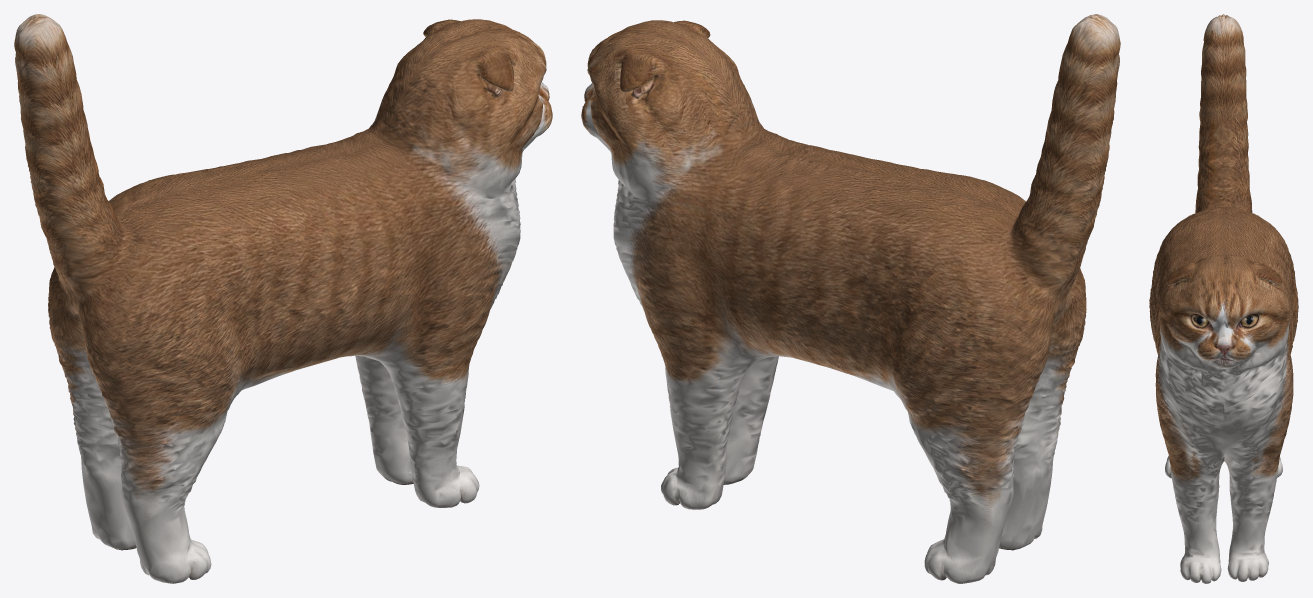
The model's file is MARUOCAT.glb.
3 views of the same model, side by side, from view 1: azimuth 30°, elevation 25°; view 2: azimuth 150°, elevation 25°; view 3: azimuth 270°, elevation 25° (orthographic). The views are drawn at different scales.
Visible parts, largest first — view 1: tripo_node_0c8d1d12-3f7e-4f68-8ae3-7cf2b4ba248e; view 2: tripo_node_0c8d1d12-3f7e-4f68-8ae3-7cf2b4ba248e; view 3: tripo_node_0c8d1d12-3f7e-4f68-8ae3-7cf2b4ba248e.
Part boxes in pixels (box(x1,y1,x2,y2)): tripo_node_0c8d1d12-3f7e-4f68-8ae3-7cf2b4ba248e: box(14, 14, 552, 583); tripo_node_0c8d1d12-3f7e-4f68-8ae3-7cf2b4ba248e: box(581, 14, 1120, 583); tripo_node_0c8d1d12-3f7e-4f68-8ae3-7cf2b4ba248e: box(1149, 14, 1298, 583).
Bounding box in the file's own units: 0.9752 × 0.9998 × 0.3225.
1 material, 1 textured.
